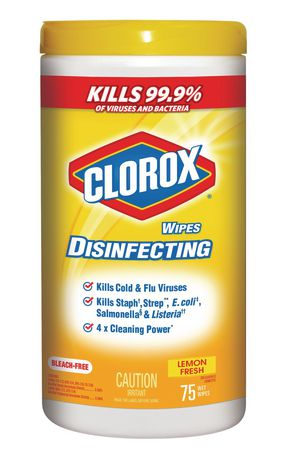Wipes: (34, 16, 256, 444)
